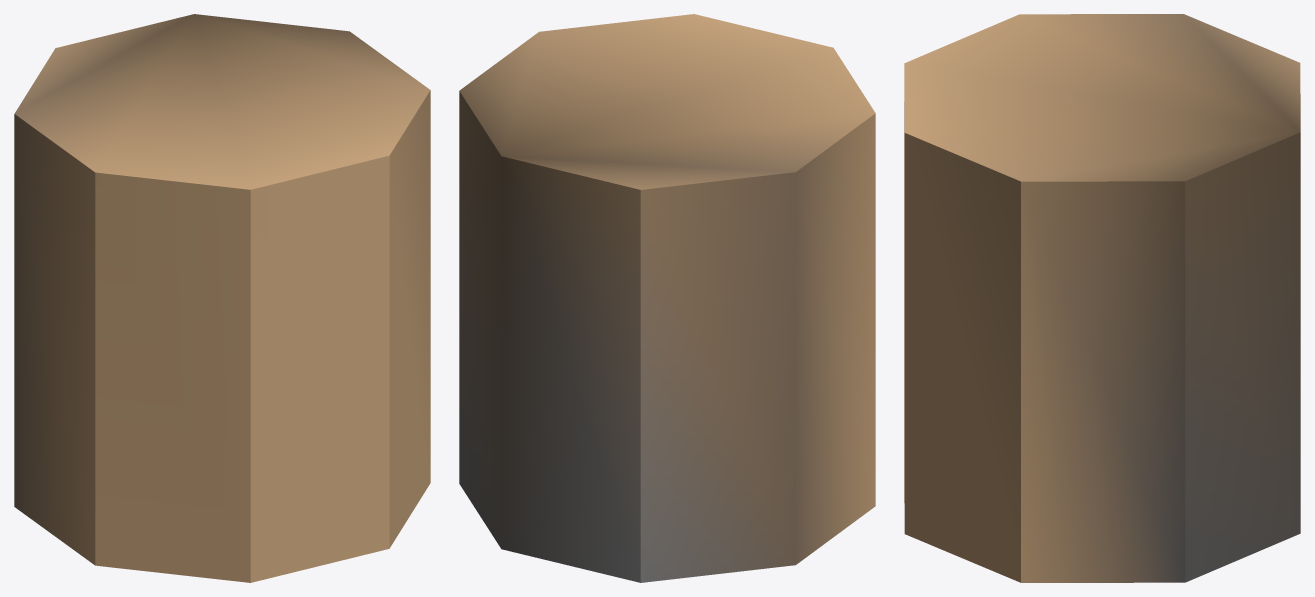
File: treeSection1.fbx
3 renders of one model, left to right at view 1: azimuth 30°, elevation 25°; view 2: azimuth 150°, elevation 25°; view 3: azimuth 270°, elevation 25°, orthographic. The views are drawn at different scales.
Parts seen in each view (by area): view 1: stump; view 2: stump; view 3: stump.
Part boxes in pixels (x1,y1,x2,y2): stump: [14, 14, 430, 582]; stump: [459, 14, 875, 582]; stump: [904, 14, 1300, 582].
Bounding box in the file's own units: 4021 × 4490 × 4021.
